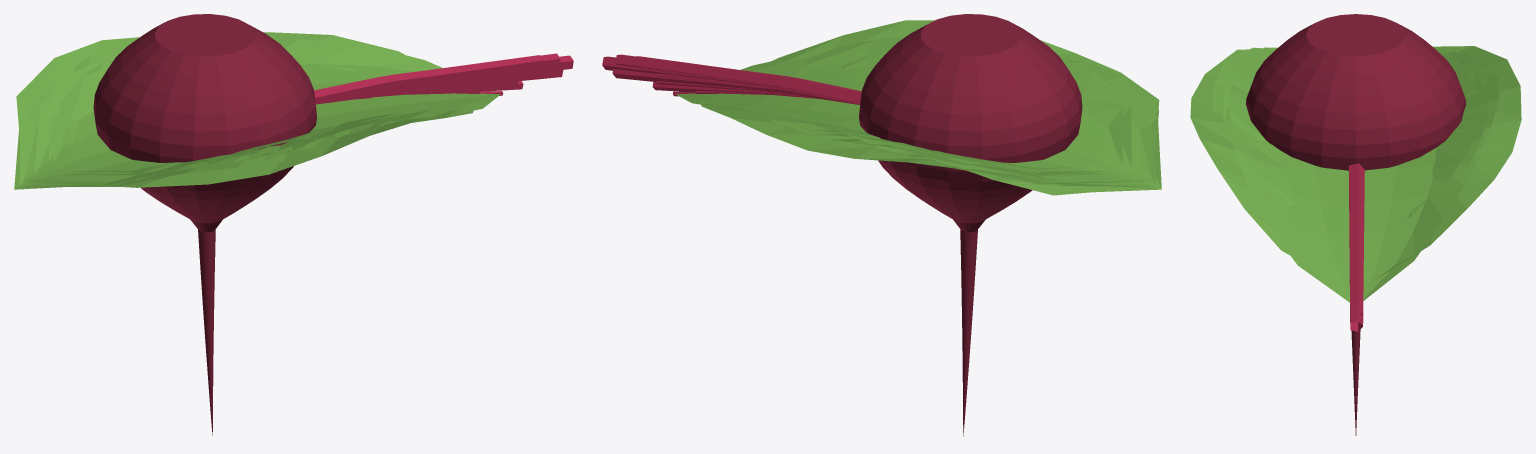
File: beetroot_harvest_v13.articulated.glb
3 renders of one model, left to right at view 1: azimuth 30°, elevation 25°; view 2: azimuth 150°, elevation 25°; view 3: azimuth 270°, elevation 25°, orthographic.
Visible parts, largest first — view 1: root, leaf01_link2, leaf03_link2, leaf06_link2, leaf03_link0, leaf04_link2, leaf02_link2, leaf07_link0, leaf05_link2, leaf08_link0, leaf01_link0, leaf08_link2 (+2 smaller); view 2: root, leaf01_link2, leaf03_link2, leaf05_link2, leaf08_link2, leaf06_link2, leaf07_link0, leaf02_link2, leaf04_link2, leaf08_link0, leaf01_link0, leaf03_link0 (+2 smaller); view 3: root, leaf01_link2, leaf03_link2, leaf07_link2, leaf06_link2, leaf08_link2, leaf02_link2, leaf07_link0, leaf05_link2, leaf08_link0, leaf04_link2, leaf00_link2 (+1 smaller).
Boxes of the visible parts, x1=… form: root: x1=93, y1=14, x2=316, y2=435; leaf01_link2: x1=34, y1=39, x2=503, y2=181; leaf03_link2: x1=16, y1=32, x2=473, y2=187; leaf06_link2: x1=53, y1=63, x2=399, y2=172; leaf03_link0: x1=315, y1=55, x2=573, y2=104; leaf04_link2: x1=20, y1=61, x2=370, y2=186; leaf02_link2: x1=68, y1=43, x2=385, y2=186; leaf07_link0: x1=314, y1=55, x2=543, y2=97; leaf05_link2: x1=14, y1=59, x2=409, y2=189; leaf08_link0: x1=315, y1=53, x2=560, y2=98; leaf01_link0: x1=359, y1=70, x2=563, y2=98; leaf08_link2: x1=66, y1=119, x2=405, y2=175; root: x1=859, y1=14, x2=1082, y2=436; leaf01_link2: x1=673, y1=37, x2=1141, y2=177; leaf03_link2: x1=698, y1=20, x2=1159, y2=184; leaf05_link2: x1=824, y1=52, x2=1161, y2=193; leaf08_link2: x1=790, y1=58, x2=1131, y2=175; leaf06_link2: x1=766, y1=52, x2=1123, y2=173; leaf07_link0: x1=632, y1=56, x2=861, y2=102; leaf02_link2: x1=823, y1=59, x2=1158, y2=195; leaf04_link2: x1=875, y1=149, x2=1155, y2=186; leaf08_link0: x1=615, y1=54, x2=859, y2=103; leaf01_link0: x1=612, y1=69, x2=859, y2=104; leaf03_link0: x1=602, y1=56, x2=859, y2=103; root: x1=1246, y1=14, x2=1466, y2=435; leaf01_link2: x1=1226, y1=52, x2=1479, y2=302; leaf03_link2: x1=1190, y1=46, x2=1521, y2=279; leaf07_link2: x1=1229, y1=85, x2=1476, y2=183; leaf06_link2: x1=1246, y1=65, x2=1478, y2=218; leaf08_link2: x1=1223, y1=57, x2=1488, y2=167; leaf02_link2: x1=1212, y1=47, x2=1499, y2=150; leaf07_link0: x1=1349, y1=163, x2=1364, y2=302; leaf05_link2: x1=1237, y1=47, x2=1483, y2=203; leaf08_link0: x1=1349, y1=170, x2=1364, y2=315; leaf04_link2: x1=1223, y1=51, x2=1488, y2=172; leaf00_link2: x1=1229, y1=92, x2=1475, y2=172.
Bounding box in the file's own units: 0.2017 × 0.1407 × 0.1053.
Materials: 1 (1 with a texture image).
